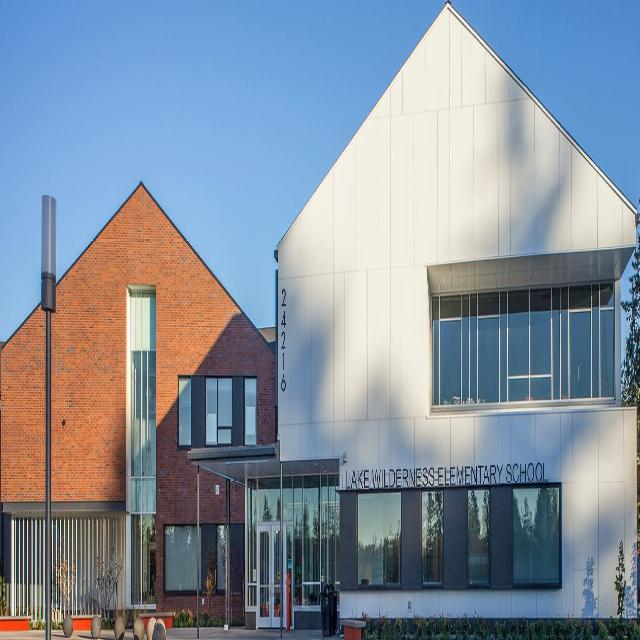door: (257, 521, 287, 630)
railing: (12, 519, 126, 626)
window: (430, 280, 615, 407), (245, 475, 340, 611), (129, 287, 156, 610), (512, 486, 561, 589), (357, 491, 401, 585), (163, 523, 201, 595), (466, 486, 490, 586), (420, 490, 442, 590), (205, 377, 231, 446), (178, 376, 192, 450), (244, 378, 257, 447), (216, 524, 226, 594)
